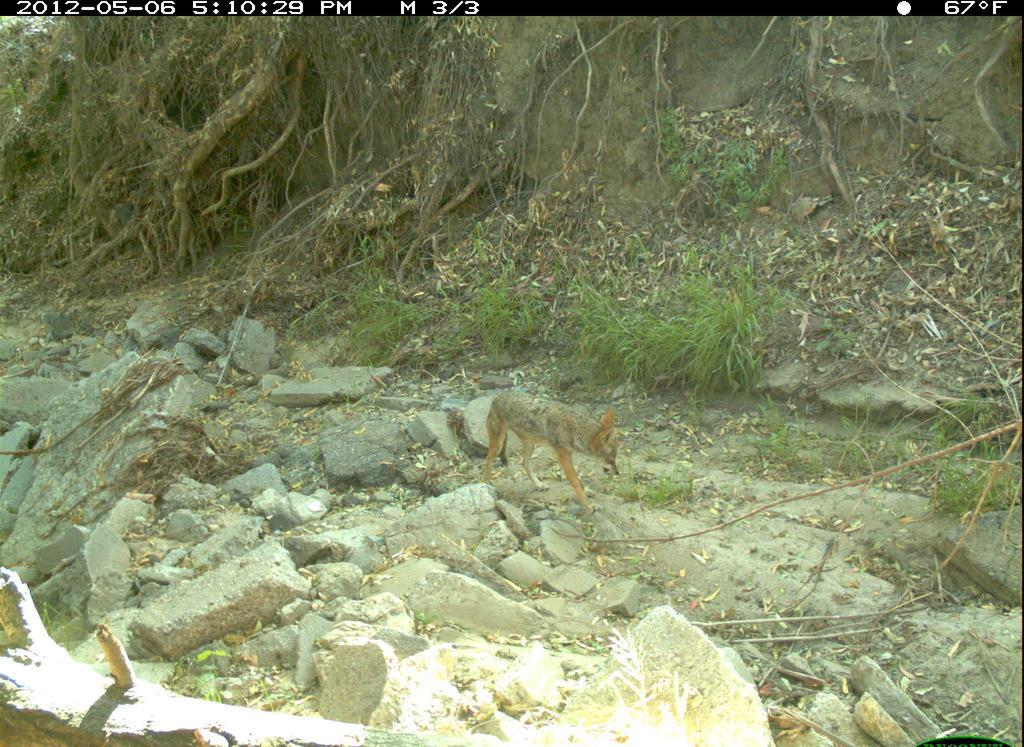coyote: (443, 388, 626, 509)
